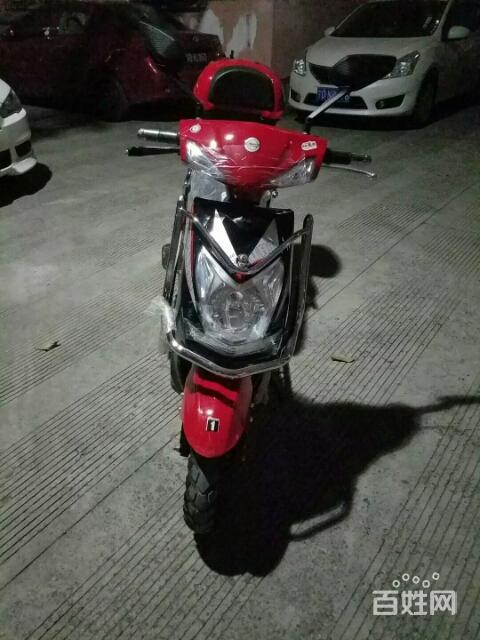电动车: (110, 40, 390, 568)
